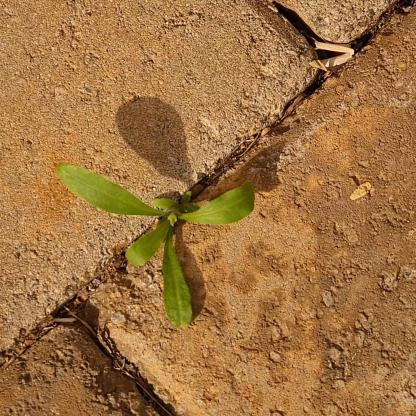Weeds: (57, 161, 256, 331)
